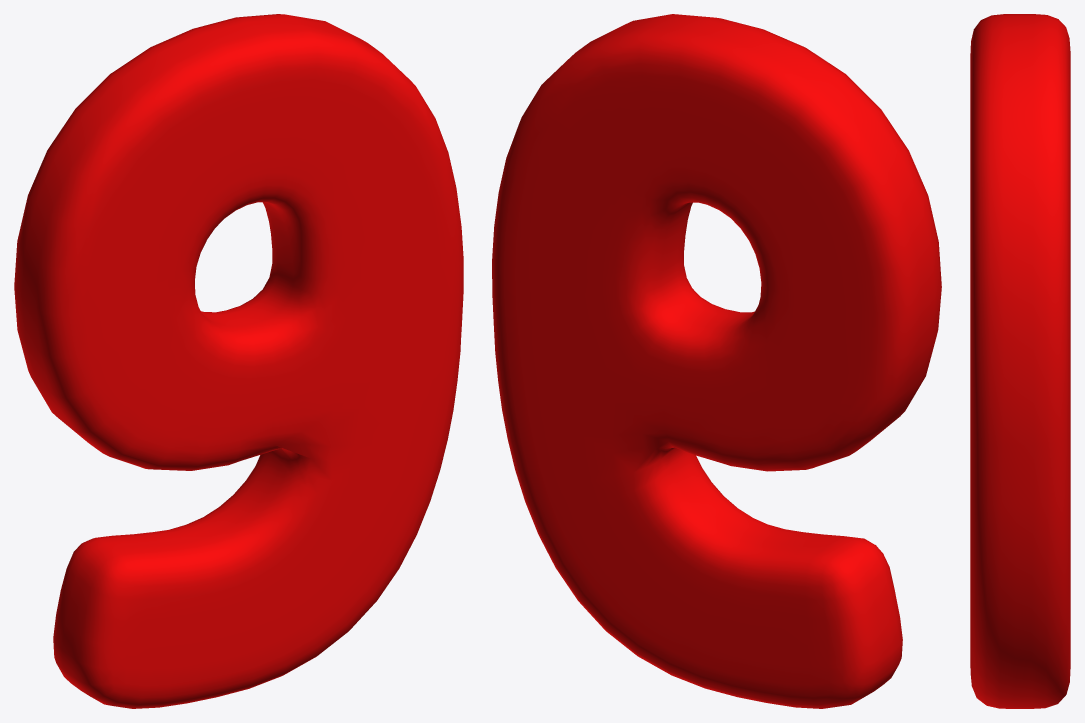
The picture shows the model from 3 angles, left to right: view 1: azimuth 30°, elevation 25°; view 2: azimuth 150°, elevation 25°; view 3: azimuth 270°, elevation 25°; orthographic projection.
Parts seen in each view (by area): view 1: 9; view 2: 9; view 3: 9.
Boxes of the visible parts, <box> form: 9: <box>14,14,463,708</box>; 9: <box>492,14,941,708</box>; 9: <box>970,14,1070,708</box>.
Size of the model in its own units: 97.8 by 144 by 20.
